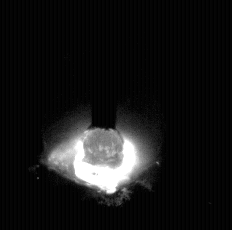arame: (92, 0, 118, 131)
poca: (44, 0, 163, 230)
